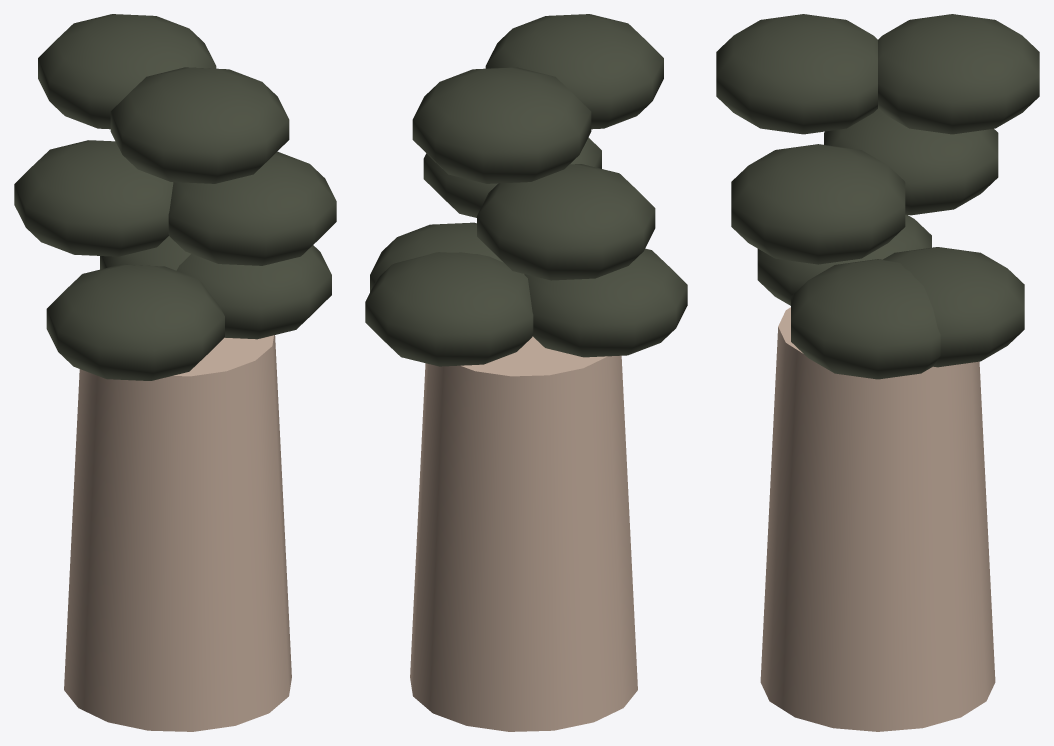
Rendered from flowers-divider.glb.
3 views of the same model, side by side, from view 1: azimuth 30°, elevation 25°; view 2: azimuth 150°, elevation 25°; view 3: azimuth 270°, elevation 25° (orthographic). The views are drawn at different scales.
Visible parts, largest first — view 1: REF-L02-R01-flowers-divider-part-1, REF-L02-R01-flowers-divider-part-4, REF-L02-R01-flowers-divider-part-5, REF-L02-R01-flowers-divider-part-6, REF-L02-R01-flowers-divider-part-3, REF-L02-R01-flowers-divider-part-7, REF-L02-R01-flowers-divider-part-2, REF-L02-R01-flowers-divider-part-8; view 2: REF-L02-R01-flowers-divider-part-1, REF-L02-R01-flowers-divider-part-7, REF-L02-R01-flowers-divider-part-6, REF-L02-R01-flowers-divider-part-8, REF-L02-R01-flowers-divider-part-5, REF-L02-R01-flowers-divider-part-4, REF-L02-R01-flowers-divider-part-2, REF-L02-R01-flowers-divider-part-3; view 3: REF-L02-R01-flowers-divider-part-1, REF-L02-R01-flowers-divider-part-3, REF-L02-R01-flowers-divider-part-4, REF-L02-R01-flowers-divider-part-7, REF-L02-R01-flowers-divider-part-2, REF-L02-R01-flowers-divider-part-8, REF-L02-R01-flowers-divider-part-6, REF-L02-R01-flowers-divider-part-5.
Part boxes in pixels (<box>): REF-L02-R01-flowers-divider-part-1: <box>64,335,291,731</box>; REF-L02-R01-flowers-divider-part-4: <box>110,67,289,183</box>; REF-L02-R01-flowers-divider-part-5: <box>46,264,224,380</box>; REF-L02-R01-flowers-divider-part-6: <box>14,140,173,256</box>; REF-L02-R01-flowers-divider-part-3: <box>168,151,336,265</box>; REF-L02-R01-flowers-divider-part-7: <box>38,14,216,129</box>; REF-L02-R01-flowers-divider-part-2: <box>176,245,331,339</box>; REF-L02-R01-flowers-divider-part-8: <box>100,236,190,270</box>; REF-L02-R01-flowers-divider-part-1: <box>410,336,637,731</box>; REF-L02-R01-flowers-divider-part-7: <box>412,67,591,183</box>; REF-L02-R01-flowers-divider-part-6: <box>477,164,655,280</box>; REF-L02-R01-flowers-divider-part-8: <box>365,252,533,366</box>; REF-L02-R01-flowers-divider-part-5: <box>524,248,687,357</box>; REF-L02-R01-flowers-divider-part-4: <box>485,14,663,129</box>; REF-L02-R01-flowers-divider-part-2: <box>370,222,524,291</box>; REF-L02-R01-flowers-divider-part-3: <box>423,137,601,217</box>; REF-L02-R01-flowers-divider-part-1: <box>760,307,995,731</box>; REF-L02-R01-flowers-divider-part-3: <box>731,144,905,264</box>; REF-L02-R01-flowers-divider-part-4: <box>716,14,877,134</box>; REF-L02-R01-flowers-divider-part-7: <box>878,14,1039,134</box>; REF-L02-R01-flowers-divider-part-2: <box>791,259,940,379</box>; REF-L02-R01-flowers-divider-part-8: <box>883,247,1024,367</box>; REF-L02-R01-flowers-divider-part-6: <box>824,109,998,215</box>; REF-L02-R01-flowers-divider-part-5: <box>757,214,931,305</box>.
Size of the model in its own units: 0.0489 by 0.1065 by 0.0481.
